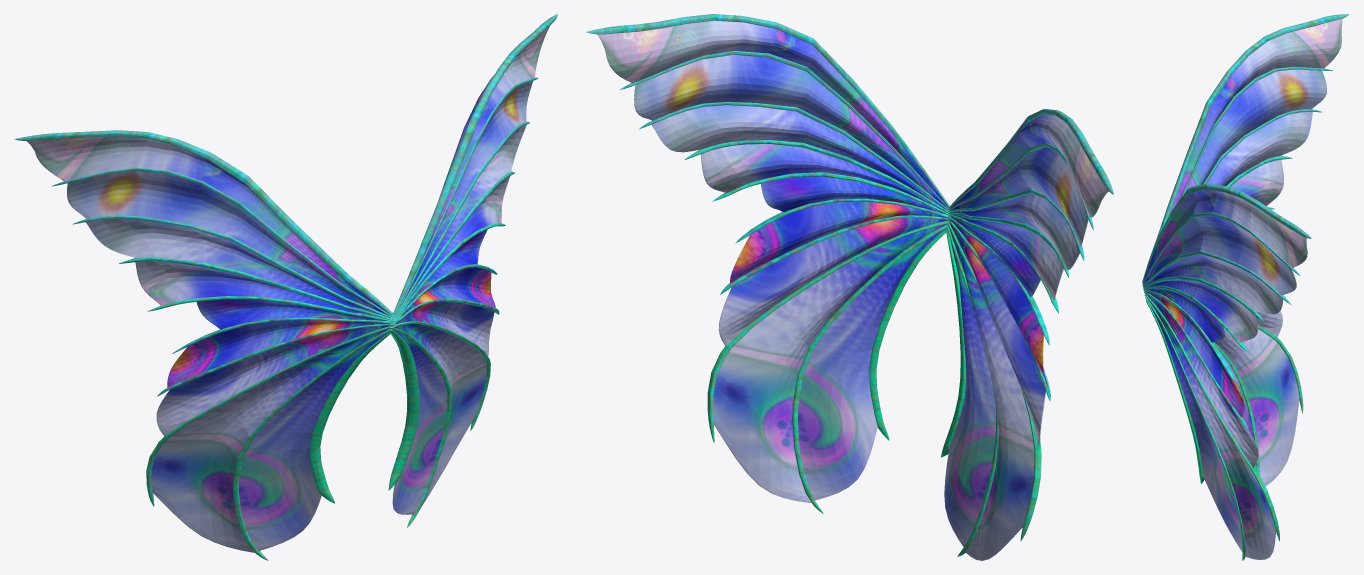
File: mhw_elvs_static_wings5_fairy_moth1.glb
3 views of the same model, side by side, from view 1: azimuth 30°, elevation 25°; view 2: azimuth 150°, elevation 25°; view 3: azimuth 270°, elevation 25° (orthographic). The views are drawn at different scales.
Visible parts, largest first — view 1: mhw_elvs_static_wings5_fairy_moth1; view 2: mhw_elvs_static_wings5_fairy_moth1; view 3: mhw_elvs_static_wings5_fairy_moth1.
Part boxes in pixels (x1,y1,x2,y2): mhw_elvs_static_wings5_fairy_moth1: (14, 14, 557, 560); mhw_elvs_static_wings5_fairy_moth1: (586, 14, 1113, 560); mhw_elvs_static_wings5_fairy_moth1: (1142, 14, 1349, 560).
Size of the model in its own units: 2.12 by 1.76 by 0.7863.
1 material, 1 textured.
